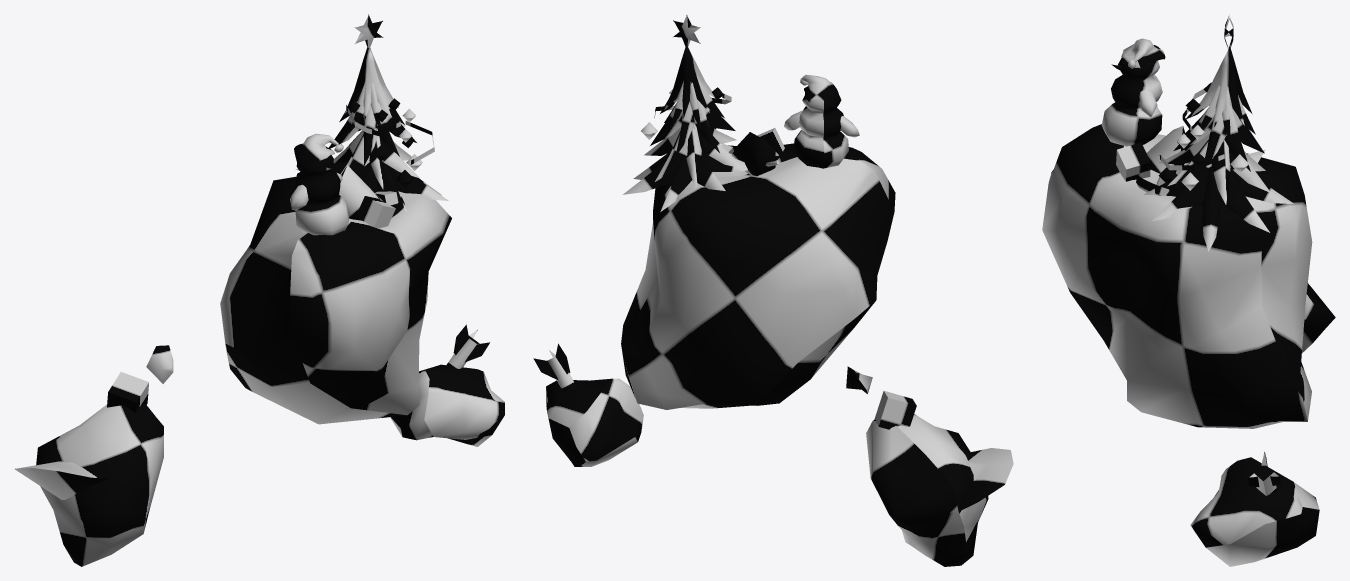
The model's file is xmas_tree.obj.
3 views of the same model, side by side, from view 1: azimuth 30°, elevation 25°; view 2: azimuth 150°, elevation 25°; view 3: azimuth 270°, elevation 25° (orthographic). The views are drawn at different scales.
Visible parts, largest first — view 1: xmas_tree; view 2: xmas_tree; view 3: xmas_tree.
Part boxes in pixels (x1,y1,x2,y2): xmas_tree: [14, 14, 504, 566]; xmas_tree: [533, 14, 1013, 566]; xmas_tree: [1042, 16, 1335, 566].
Size of the model in its own units: 199 by 195 by 99.47.
Materials: 1 (1 with a texture image).
